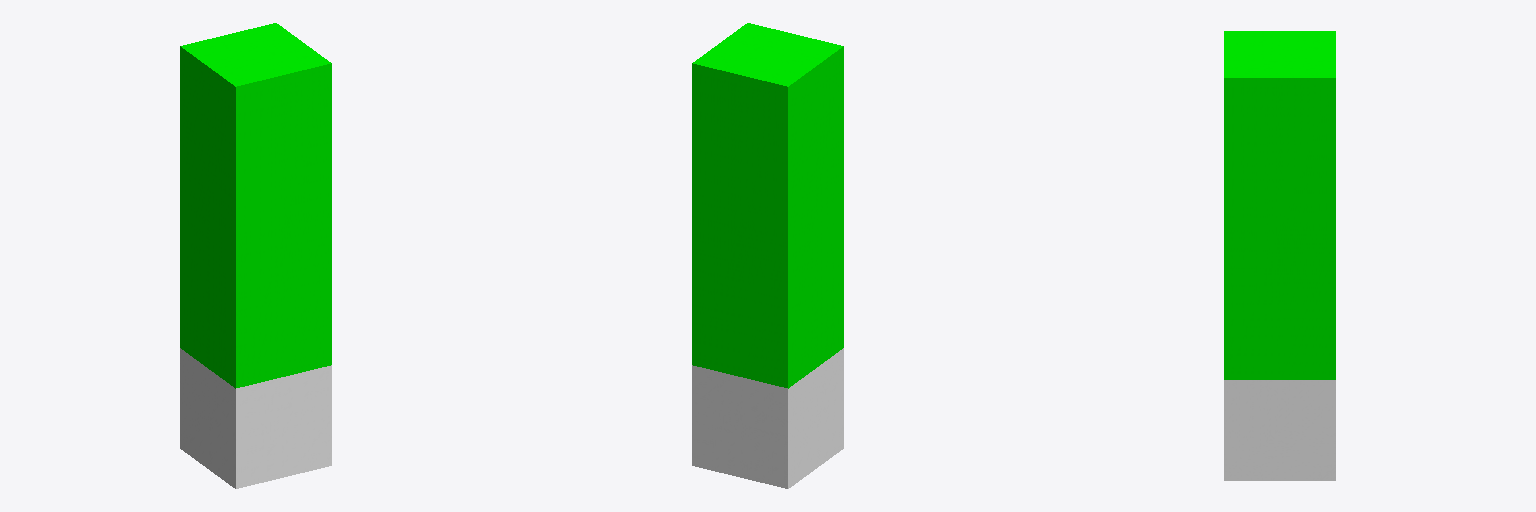
3 views of the same model, side by side, from view 1: azimuth 30°, elevation 25°; view 2: azimuth 150°, elevation 25°; view 3: azimuth 270°, elevation 25° (orthographic).
Size of the model in its own units: 30 by 120 by 30.
1 materials, 1 textured.